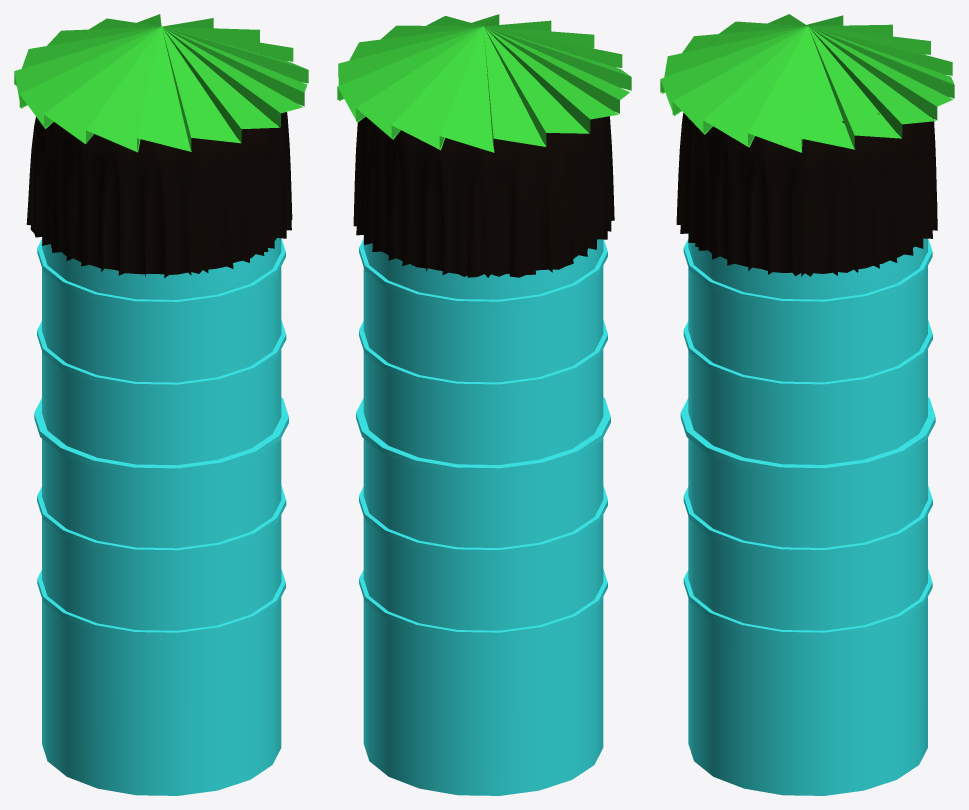
The model's file is Silo_02.fbx.
3 renders of one model, left to right at view 1: azimuth 30°, elevation 25°; view 2: azimuth 150°, elevation 25°; view 3: azimuth 270°, elevation 25°, orthographic.
Parts seen in each view (by area): view 1: Object004; view 2: Object004; view 3: Object004.
Part boxes in pixels (box(x1,y1,x2,y2)): Object004: box(14, 14, 308, 795); Object004: box(337, 14, 631, 795); Object004: box(660, 14, 954, 795).
Size of the model in its own units: 620 by 1670 by 619.
